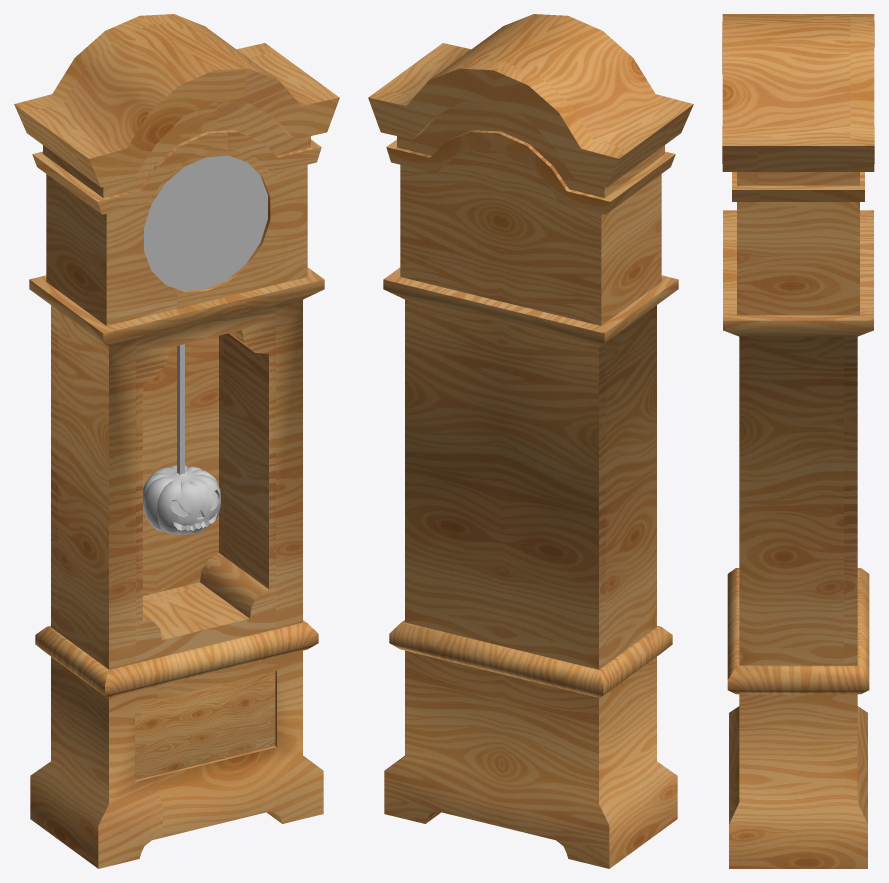
The model's file is Clock_Tower_Drop.fbx.
3 renders of one model, left to right at view 1: azimuth 30°, elevation 25°; view 2: azimuth 150°, elevation 25°; view 3: azimuth 270°, elevation 25°, orthographic.
Parts seen in each view (by area): view 1: Clock_Tower_Drop.002, Clock_Tower_Drop.004, Clock_Tower_Drop.000, Clock_Tower_Drop.001, Clock_Tower_Drop.003; view 2: Clock_Tower_Drop.002, Clock_Tower_Drop.004, Clock_Tower_Drop.000, Clock_Tower_Drop.001; view 3: Clock_Tower_Drop.002, Clock_Tower_Drop.004, Clock_Tower_Drop.000, Clock_Tower_Drop.001.
Part boxes in pixels (<box>): Clock_Tower_Drop.002: <box>29,267,324,669</box>; Clock_Tower_Drop.004: <box>14,14,339,325</box>; Clock_Tower_Drop.000: <box>30,650,323,868</box>; Clock_Tower_Drop.001: <box>35,620,318,697</box>; Clock_Tower_Drop.003: <box>143,344,220,534</box>; Clock_Tower_Drop.002: <box>383,267,678,669</box>; Clock_Tower_Drop.004: <box>368,14,693,325</box>; Clock_Tower_Drop.000: <box>384,650,677,868</box>; Clock_Tower_Drop.001: <box>389,620,672,697</box>; Clock_Tower_Drop.002: <box>723,210,873,665</box>; Clock_Tower_Drop.004: <box>722,14,874,315</box>; Clock_Tower_Drop.000: <box>729,694,867,868</box>; Clock_Tower_Drop.001: <box>727,568,869,694</box>.
Size of the model in its own units: 91.08 by 268 by 47.05.
